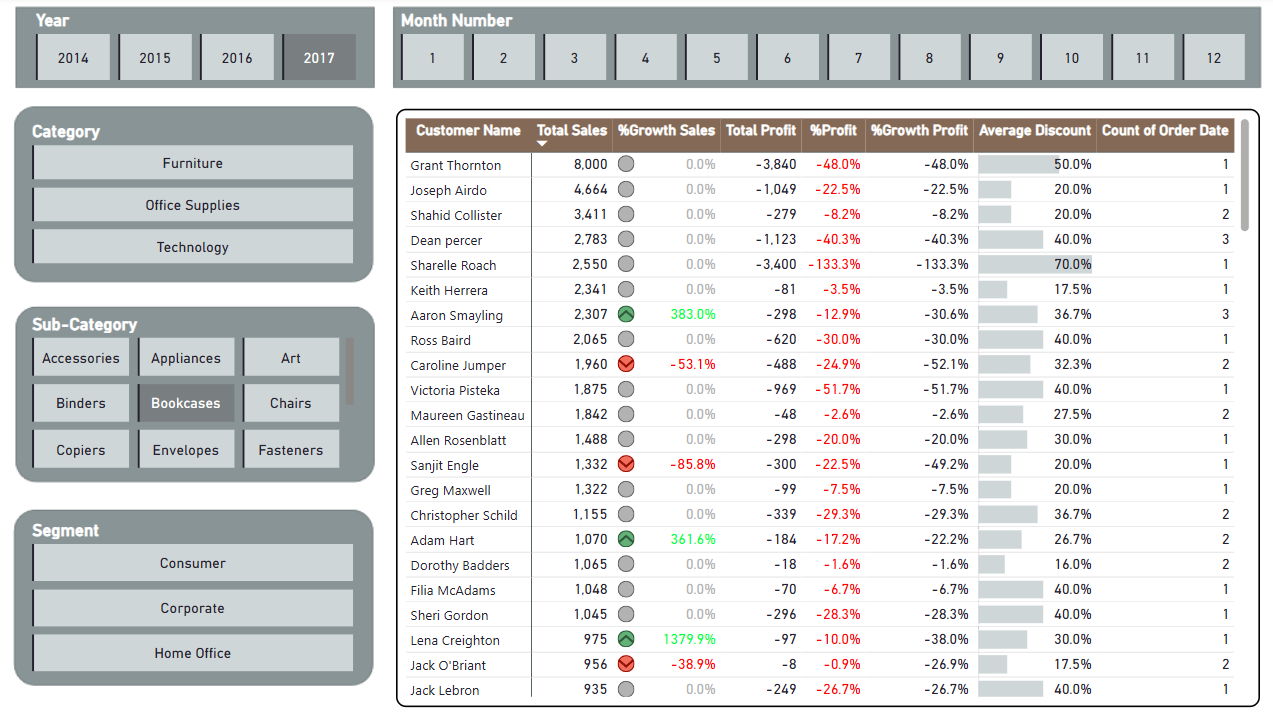

The dashboard page shown, as its layout file describes it:
{"tool":"powerbi","page":{"name":"Customer Focus","canvas":[1280,720],"ordinal":3},"visuals":[{"type":"pivotTable","fields":{"Values":["Sales.Total Sales","Sales.Sales YOY% Growth","Sales.Total Profit","Sales.%Profit","Sales.%Profit YOY","Sales.Average Discount","Count(Sales.Order Date)"],"Rows":["DimCustomer.Customer Name"]},"box":[400,109.1,863.6,598.5],"z":0},{"type":"advancedSlicerVisual","fields":{"Values":["DimProduct.Sub-Category"]},"box":[31.8,313.6,331.8,160.6],"z":1000},{"type":"advancedSlicerVisual","fields":{"Values":["DimProduct.Category"]},"box":[31.8,121.2,331.8,150],"z":2000},{"type":"advancedSlicerVisual","fields":{"Values":["DimDate.Year"]},"box":[34.8,10.6,331.8,75.8],"z":3000},{"type":"advancedSlicerVisual","fields":{"Values":["DimDate.Month Number"]},"box":[400,10.6,863.6,75.8],"z":4000},{"type":"advancedSlicerVisual","fields":{"Values":["DimCustomer.Segment"]},"box":[31.8,519.7,331.8,157.6],"z":5000}]}

Visuals, with their boxes in screenshot pixels (x1, y1, x2, y2), scaled from the page's 1280x720 canvas onto the 1273x714 screenshot:
pivotTable - Sales.Total Sales x Sales.Sales YOY% Growth: <box>398,108,1257,702</box>
advancedSlicerVisual - DimProduct.Sub-Category: <box>32,311,362,470</box>
advancedSlicerVisual - DimProduct.Category: <box>32,120,362,269</box>
advancedSlicerVisual - DimDate.Year: <box>35,11,365,86</box>
advancedSlicerVisual - DimDate.Month Number: <box>398,11,1257,86</box>
advancedSlicerVisual - DimCustomer.Segment: <box>32,515,362,672</box>
